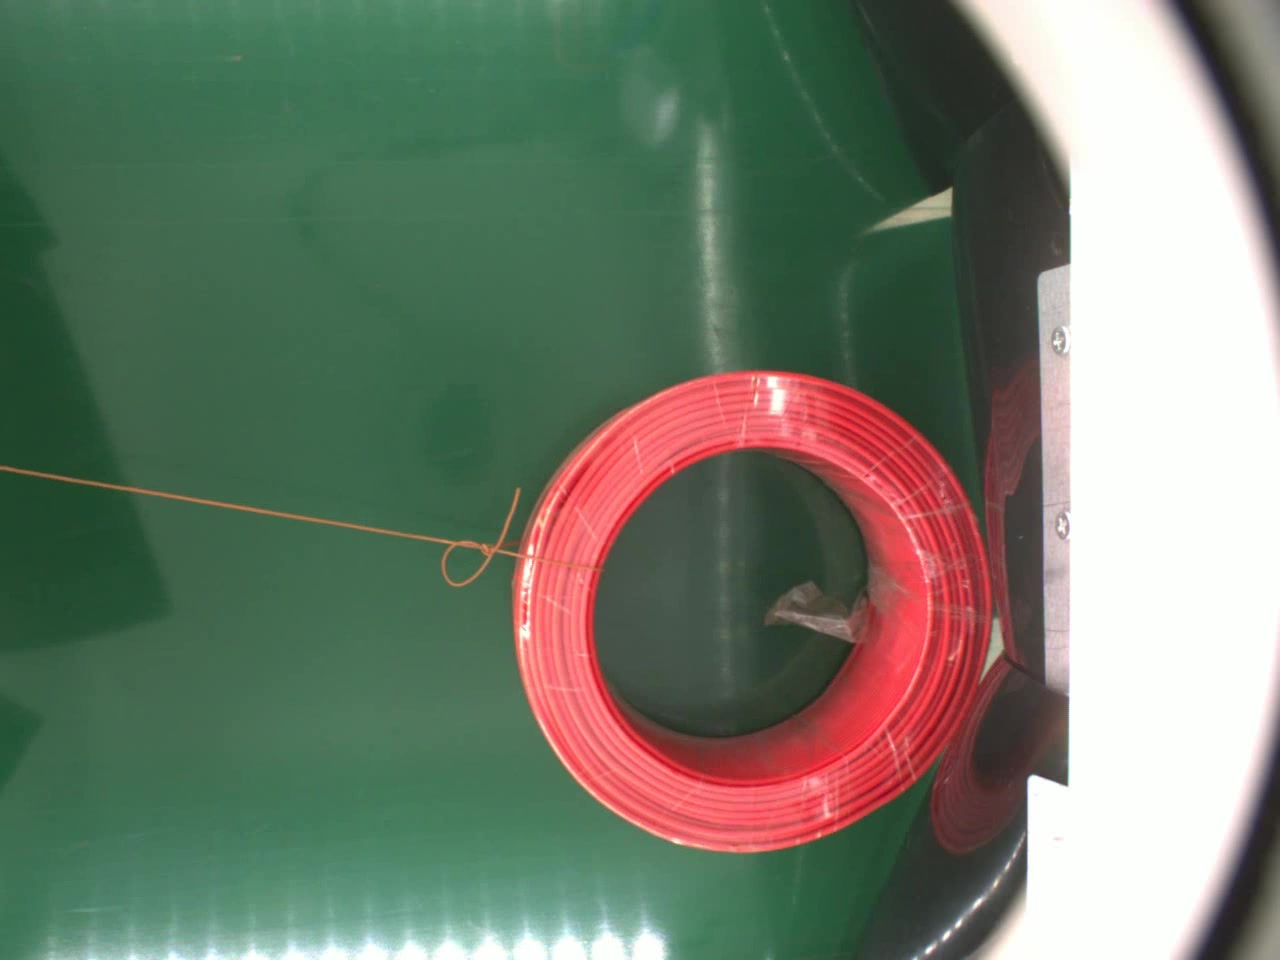red: (509, 363, 1001, 860)
